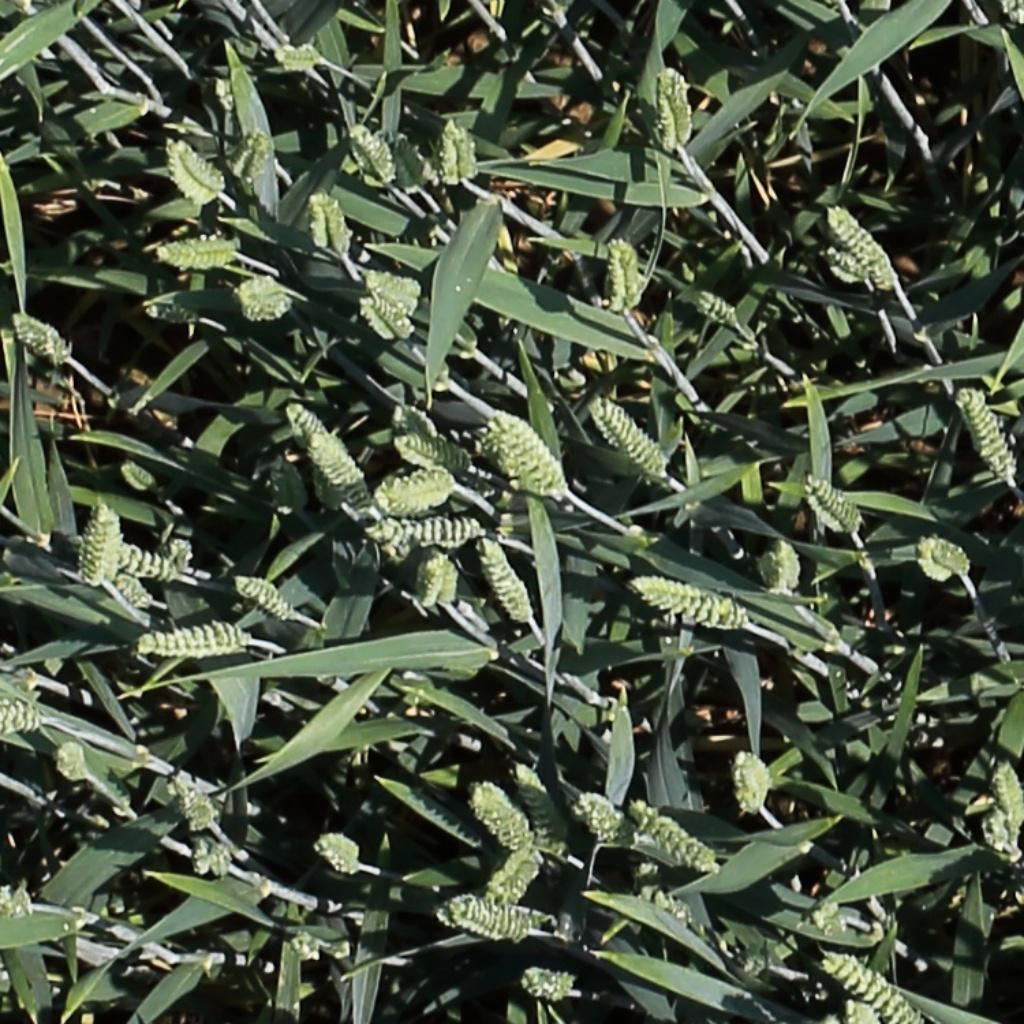0-0: (819, 200, 908, 285), (955, 380, 1019, 490), (488, 412, 569, 496), (826, 950, 920, 1021), (630, 801, 719, 875), (595, 394, 671, 480), (519, 753, 579, 856), (634, 578, 750, 629), (477, 532, 537, 628), (136, 616, 245, 666), (471, 786, 533, 857), (805, 471, 866, 537), (165, 133, 226, 199), (368, 510, 488, 543), (346, 114, 400, 187), (577, 794, 643, 853), (312, 432, 375, 493), (166, 770, 219, 838), (445, 902, 536, 940), (366, 508, 415, 576), (311, 182, 352, 260), (9, 311, 69, 364), (393, 435, 476, 473), (84, 498, 116, 592), (658, 64, 690, 158), (233, 576, 299, 621), (235, 274, 292, 326), (357, 290, 415, 341), (378, 477, 454, 515), (734, 746, 771, 820), (641, 884, 699, 931), (992, 737, 1024, 821), (491, 850, 541, 903), (234, 122, 274, 188), (398, 122, 432, 199), (161, 235, 237, 269), (282, 395, 330, 447), (425, 546, 461, 615), (981, 802, 1020, 864), (363, 268, 421, 309), (820, 243, 864, 291), (610, 233, 636, 314), (921, 536, 973, 576), (0, 686, 42, 733), (774, 533, 804, 598), (439, 111, 464, 189), (694, 289, 742, 327), (315, 836, 361, 875), (813, 898, 851, 944), (185, 835, 239, 867), (109, 570, 152, 610), (54, 740, 91, 786), (118, 458, 159, 495), (522, 972, 576, 998), (164, 534, 195, 574), (143, 301, 199, 322), (845, 996, 881, 1024), (275, 50, 322, 66)
